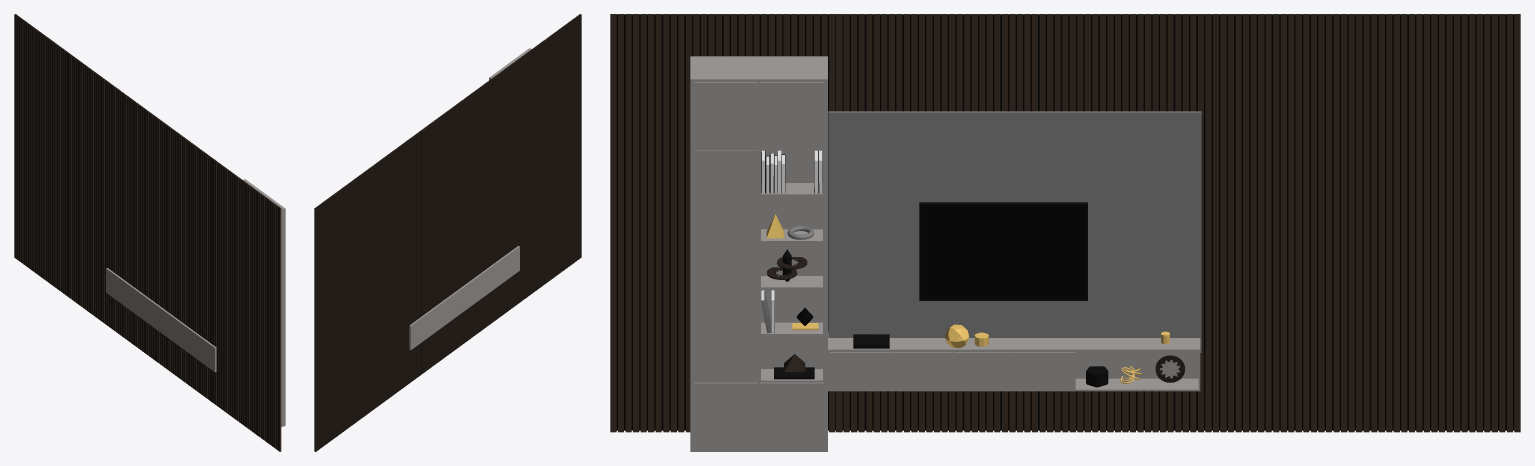
The model's file is uploads_files_4055581_TV+Wall+FBX.fbx.
The picture shows the model from 3 angles, left to right: view 1: azimuth 30°, elevation 25°; view 2: azimuth 150°, elevation 25°; view 3: azimuth 270°, elevation 25°; orthographic projection. The views are drawn at different scales.
Parts seen in each view (by area): view 1: Box2131660720, Box2131660719, Box2131660594, Box2131660608, Box2131660613, Box2131660688, Box2131660690, Box2131660693, Box2131660695, Box2131660698, Box2131660708, Box2131660676 (+112 smaller); view 2: Box2131660720, Box2131660717, Box2131660693, Box2131660698, Box2131660688, Box2131660690, Box2131660695, Box2131660703, Box2131660708, Box2131660713, Box2131660676, Box2131660679 (+112 smaller); view 3: Box2131660718, Box2131660719, Plane014, Box2131660720, Box2131660726, Plane013, Plane011, Plane012, Box2131660691, Box2131660704, Box2131660706, Box2131660717 (+91 smaller).
Boxes of the visible parts, x1,y1,x2,y2 form: Box2131660720: (106,268,216,372); Box2131660719: (243,179,285,426); Box2131660594: (278,207,281,451); Box2131660608: (247,184,250,429); Box2131660613: (236,176,239,421); Box2131660688: (78,60,81,305); Box2131660690: (73,57,76,302); Box2131660693: (67,52,70,297); Box2131660695: (62,49,65,294); Box2131660698: (56,44,59,289); Box2131660708: (34,28,37,272); Box2131660676: (102,78,105,323); Box2131660720: (409,246,519,350); Box2131660717: (314,207,317,451); Box2131660693: (367,168,370,413); Box2131660698: (356,176,359,421); Box2131660688: (378,160,381,405); Box2131660690: (374,163,377,408); Box2131660695: (363,171,366,416); Box2131660703: (345,184,348,429); Box2131660708: (334,192,337,437); Box2131660713: (323,200,326,445); Box2131660676: (402,142,405,387); Box2131660679: (396,147,399,392); Box2131660718: (828,111,1201,352); Box2131660719: (690,56,827,451); Plane014: (1294,14,1514,430); Box2131660720: (828,332,1200,391); Box2131660726: (919,202,1087,300); Plane013: (1068,14,1288,430); Plane011: (616,14,835,430); Plane012: (842,14,1062,430); Box2131660691: (1318,14,1324,432); Box2131660704: (1416,14,1422,432); Box2131660706: (1431,14,1437,432); Box2131660717: (1514,14,1520,432).
Size of the model in its own units: 403 by 3000 by 5934.
